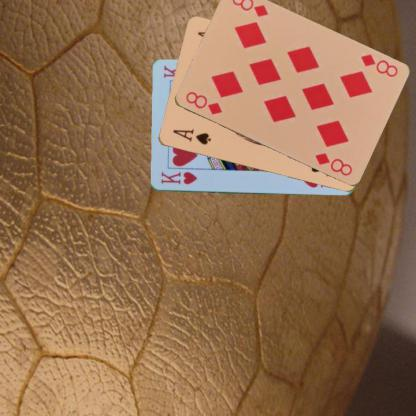8d: (183, 89, 223, 116), (358, 52, 398, 78)
As: (170, 127, 212, 146)
Kh: (158, 169, 198, 186)
